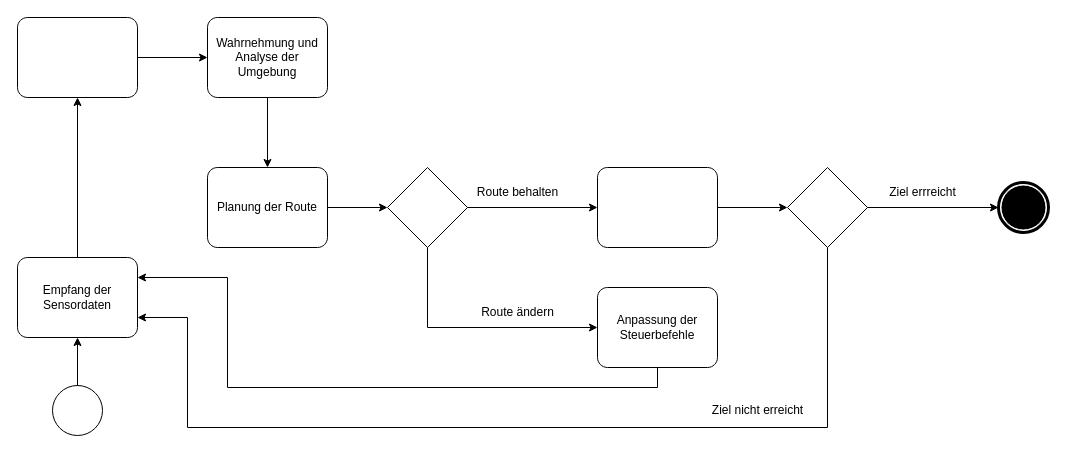
Image size: 1066x453. Some labels were removed from this diagram. Here are the shapes that lost their labels. From the top down, the box of each, then its label:
(16, 16, 138, 98): Fusion der Sensordaten
(596, 166, 718, 248): Kurzzeitroute durchführen
